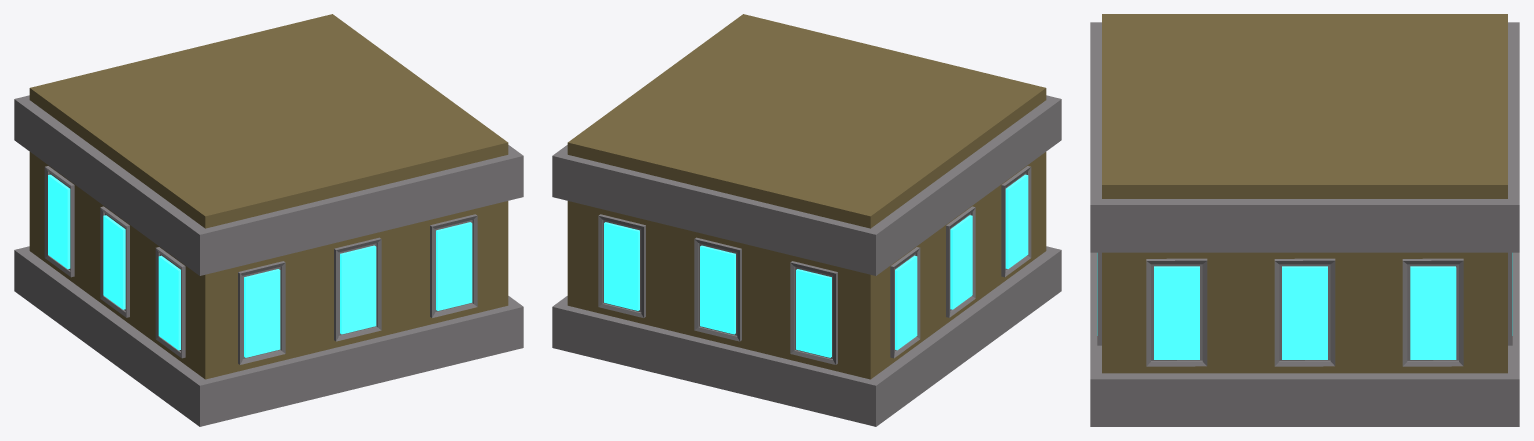
The picture shows the model from 3 angles, left to right: view 1: azimuth 30°, elevation 25°; view 2: azimuth 150°, elevation 25°; view 3: azimuth 270°, elevation 25°; orthographic projection. The views are drawn at different scales.
Visible parts, largest first — view 1: Cube.028, Cube.013, Cube.014, Cube.004, Cube.006, Cube.005, Cube.011, Cube.012, Cube.010; view 2: Cube.028, Cube.013, Cube.014, Cube.003, Cube.001, Cube, Cube.011, Cube.012, Cube.010; view 3: Cube.028, Cube.014, Cube.013, Cube.008, Cube.007, Cube.009, Cube, Cube.005.
Part boxes in pixels (box(x1,y1,x2,y2)): Cube.028: box(29, 14, 508, 379); Cube.013: box(14, 246, 523, 426); Cube.014: box(14, 95, 523, 275); Cube.004: box(334, 237, 381, 341); Cube.006: box(238, 261, 285, 364); Cube.005: box(430, 214, 477, 317); Cube.011: box(155, 247, 185, 358); Cube.012: box(44, 166, 74, 277); Cube.010: box(100, 206, 129, 317); Cube.028: box(567, 14, 1046, 379); Cube.013: box(552, 246, 1061, 426); Cube.014: box(552, 95, 1061, 275); Cube.003: box(694, 237, 741, 341); Cube.001: box(790, 261, 837, 364); Cube: box(598, 214, 645, 317); Cube.011: box(1001, 166, 1031, 277); Cube.012: box(890, 247, 920, 358); Cube.010: box(946, 206, 975, 317); Cube.028: box(1102, 14, 1507, 373); Cube.014: box(1090, 22, 1519, 252); Cube.013: box(1090, 252, 1519, 426); Cube.008: box(1402, 258, 1463, 366); Cube.007: box(1146, 258, 1207, 366); Cube.009: box(1274, 258, 1335, 366); Cube: box(1508, 252, 1512, 345); Cube.005: box(1097, 252, 1101, 345).
Size of the model in its own units: 13.28 by 8.1 by 13.17.
